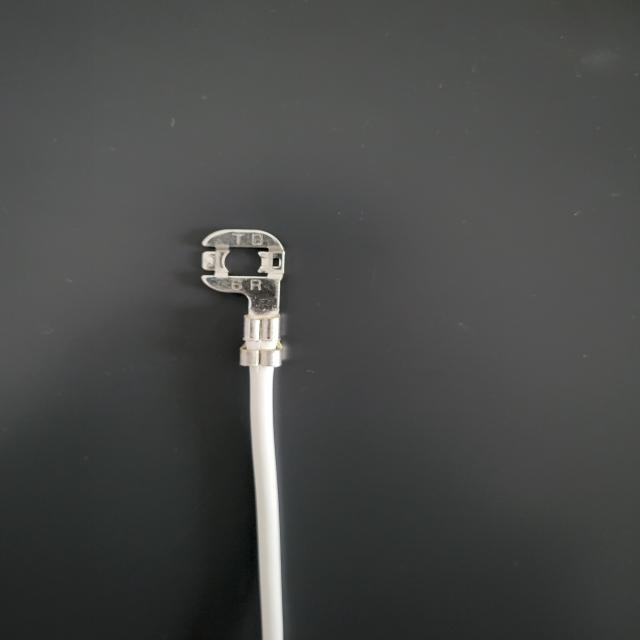defect: (222, 298, 344, 382)
